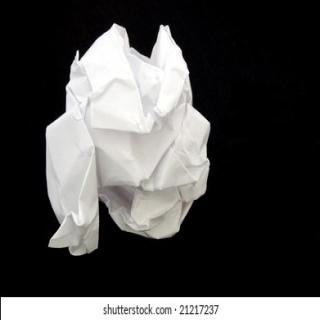Anorganik: (38, 19, 216, 260)
